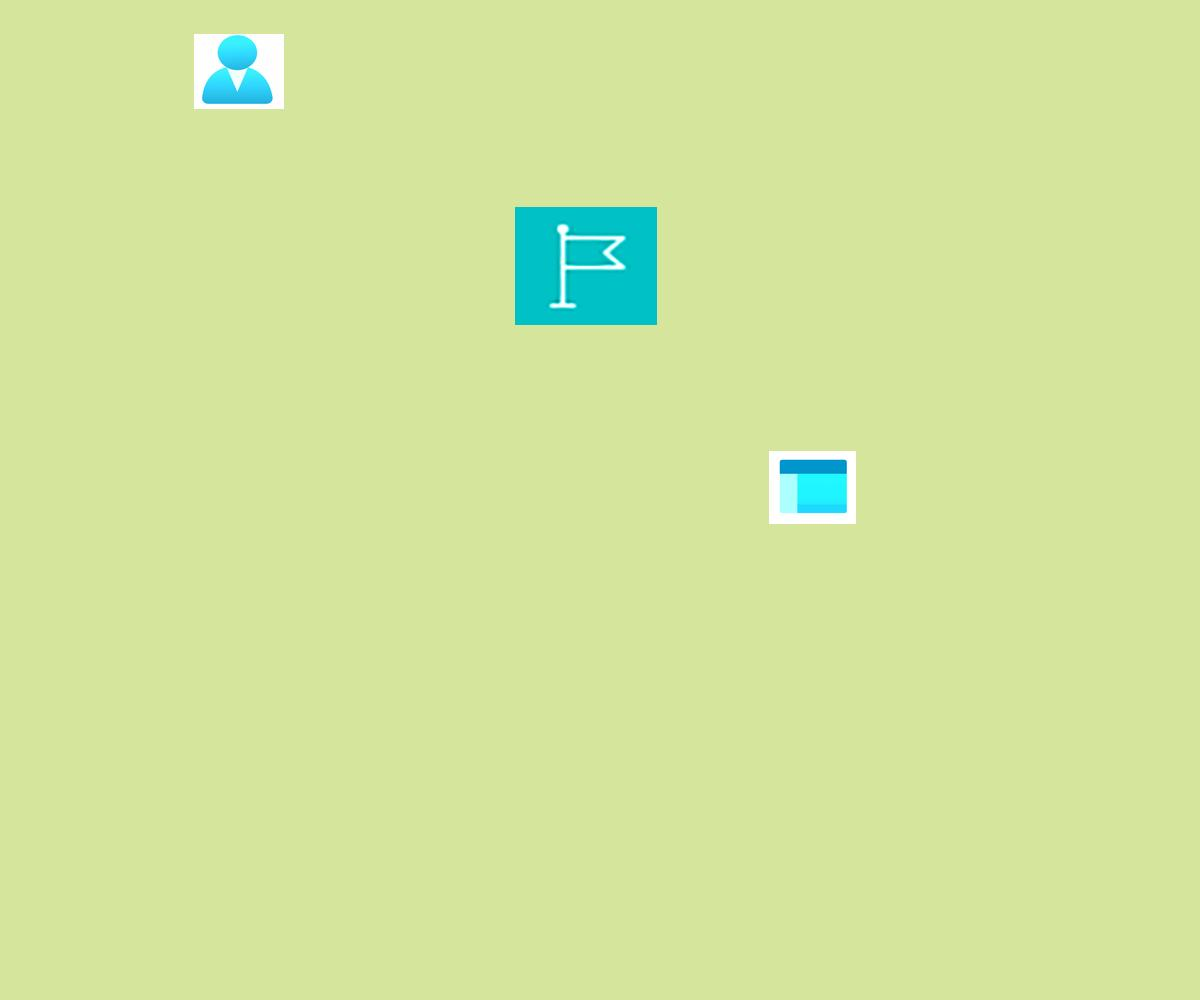AWS-Region: (515, 207, 657, 325)
Azure_management-portal: (769, 451, 856, 524)
Azure_users: (194, 34, 284, 109)
